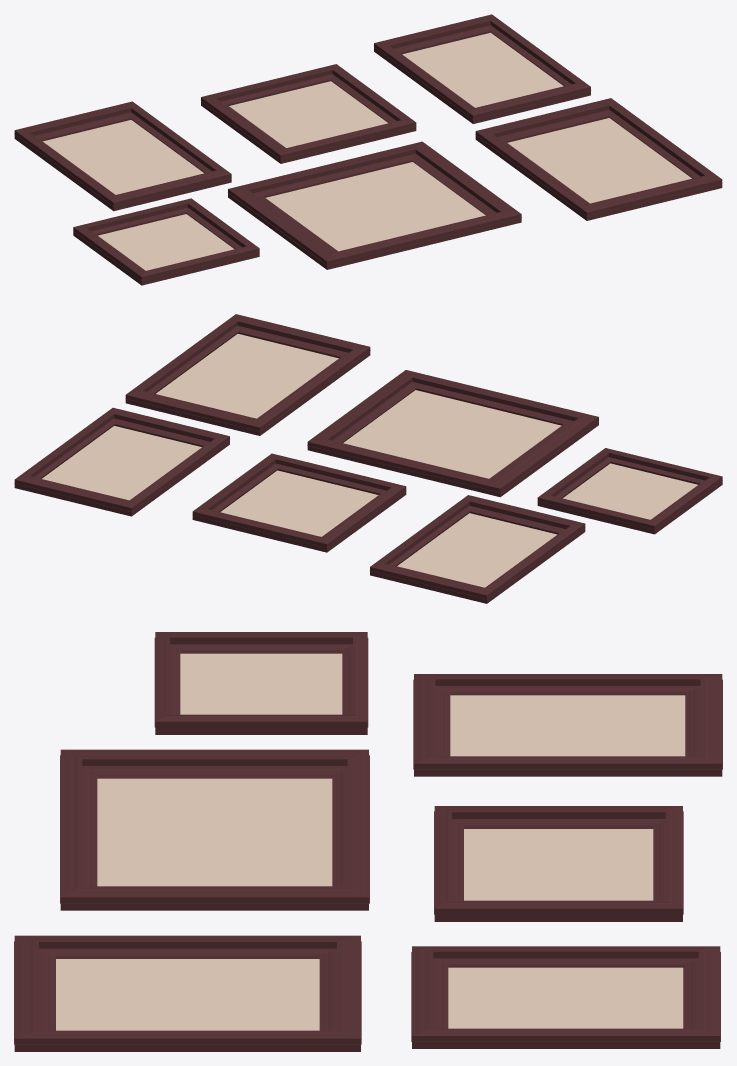
The model's file is PictureFrames.fbx.
3 views of the same model, one above another, from view 1: azimuth 30°, elevation 25°; view 2: azimuth 150°, elevation 25°; view 3: azimuth 270°, elevation 25° (orthographic). The views are drawn at different scales.
Visible parts, largest first — view 1: Picture Frames; view 2: Picture Frames; view 3: Picture Frames.
Part boxes in pixels (<box>): Picture Frames: <box>14,14,722,285</box>; Picture Frames: <box>14,314,722,603</box>; Picture Frames: <box>14,632,722,1051</box>.
Size of the model in its own units: 909 by 14.65 by 669.
